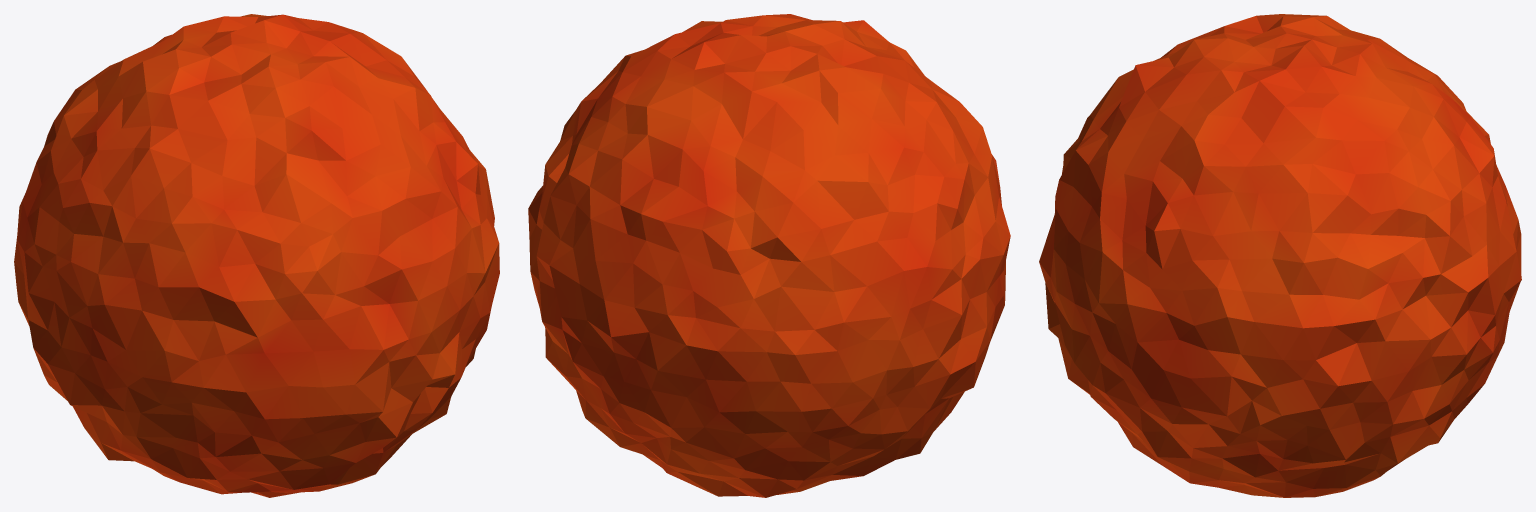
File: Suns_Sun01.fbx
3 renders of one model, left to right at view 1: azimuth 30°, elevation 25°; view 2: azimuth 150°, elevation 25°; view 3: azimuth 270°, elevation 25°, orthographic.
Parts seen in each view (by area): view 1: Sun01; view 2: Sun01; view 3: Sun01.
Boxes of the visible parts, x1,y1,x2,y2 form: Sun01: [14, 14, 499, 497]; Sun01: [528, 14, 1010, 497]; Sun01: [1039, 14, 1521, 497].
Bounding box in the file's own units: 20.25 × 20.44 × 20.41.
